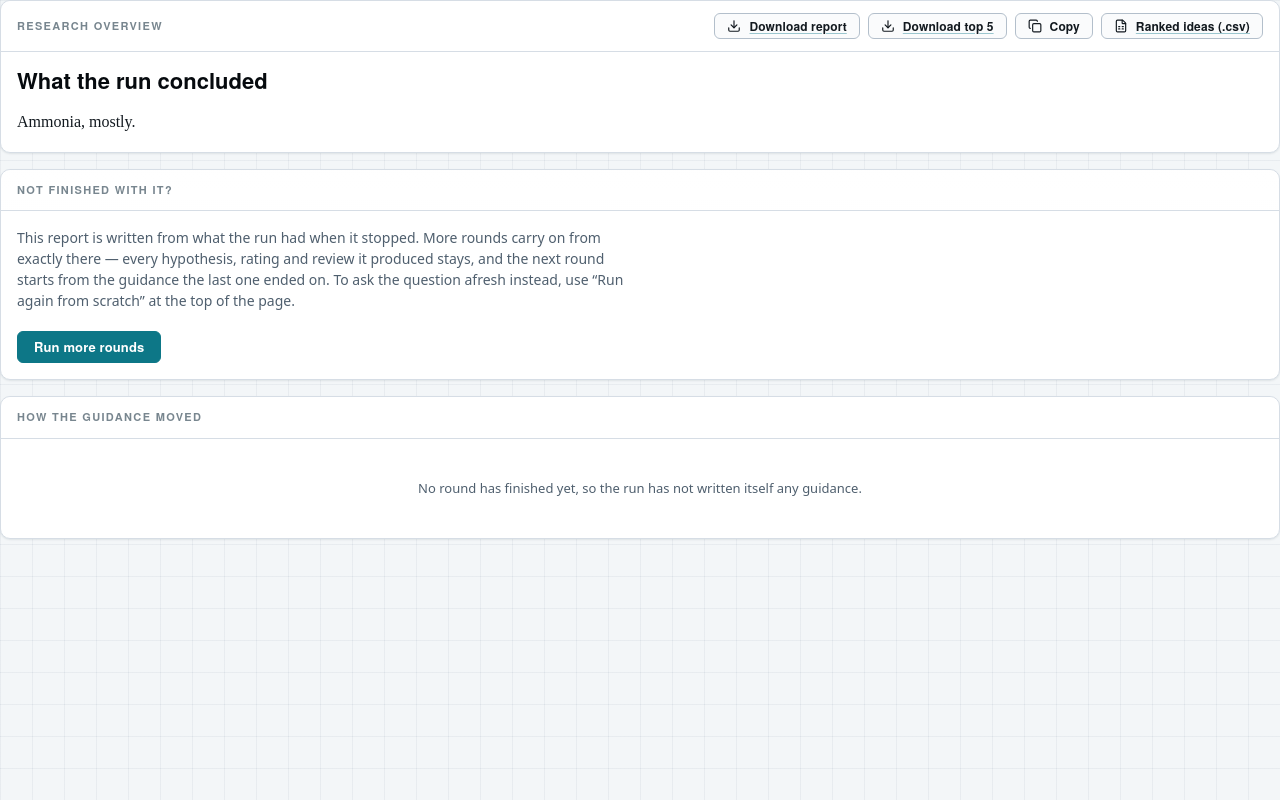
Test: running more rounds from the report › opens the control bar's own dialog and sends one continue
The width and height of the screenshot is (1280, 800).
What coordinates should you click on to do the following:
click the button "Run more rounds"
I would click on:
 (89, 347)
Its box is [17,331,161,363].
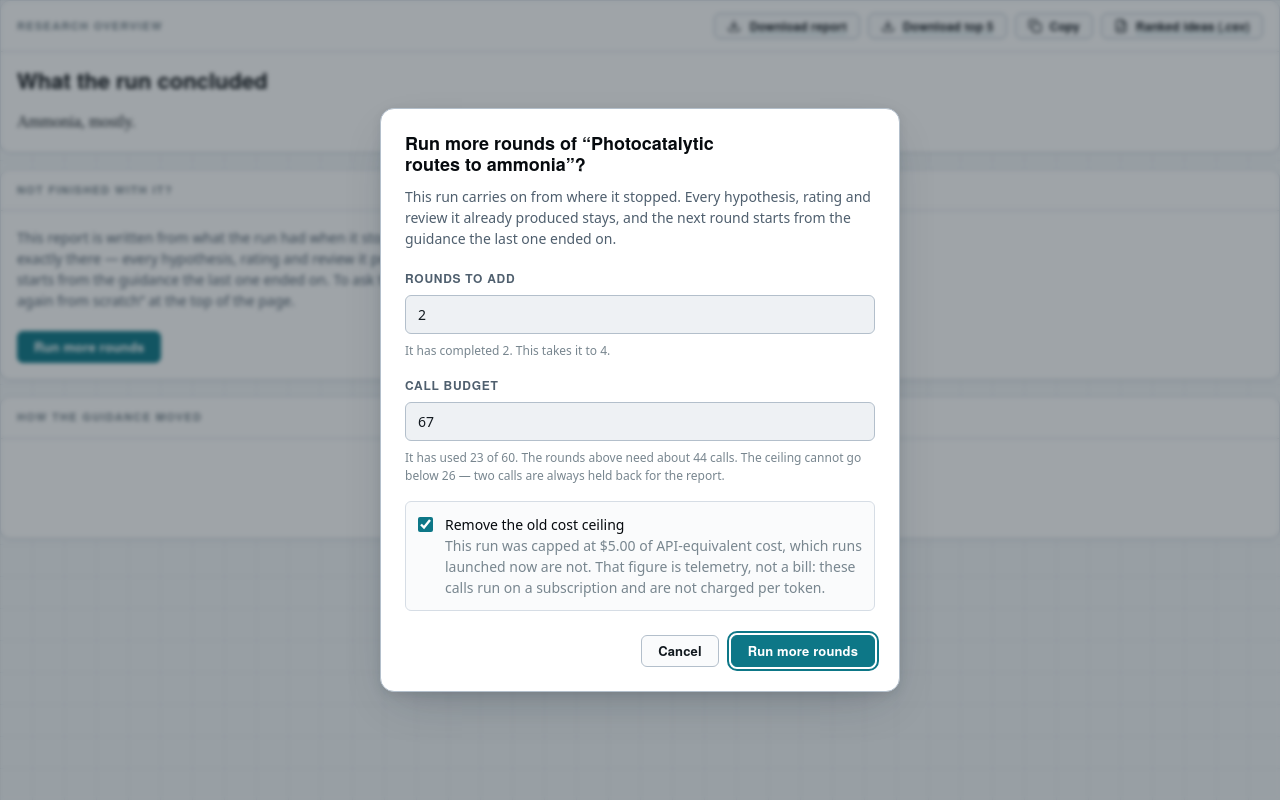
Expected: the dialog shows "it has completed 2", [405,342,610,359]
Expected: the dialog shows "every hypothesis, rating and review", [405,187,871,248]
What coordinates should you click on to do the following:
click the button "Run more rounds"
I would click on:
 (803, 651)
Its box is [731,635,875,667].
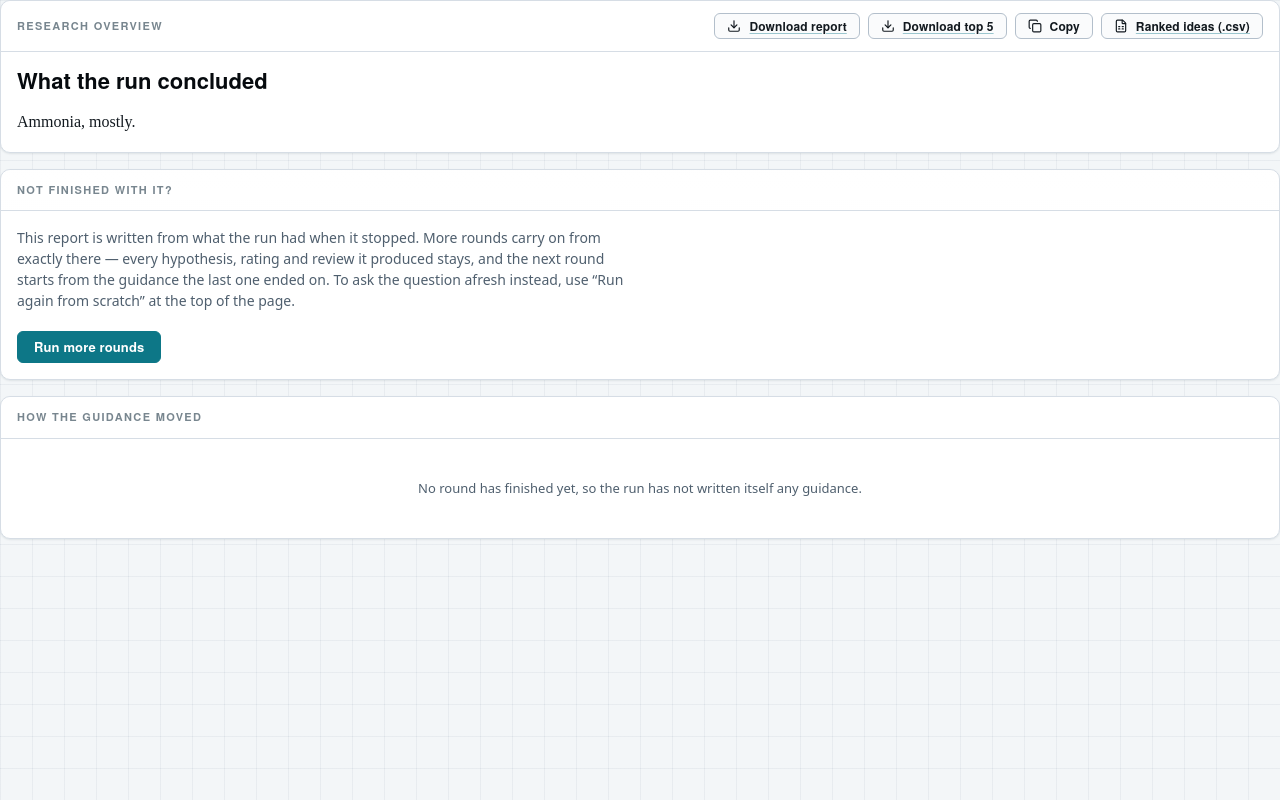
Expected: the dialog is gone
